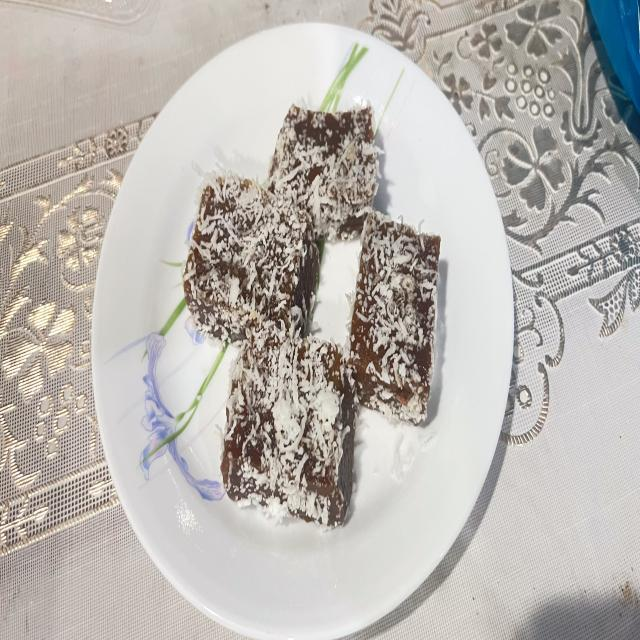kaswi: (221, 322, 355, 527), (182, 173, 319, 342), (349, 211, 440, 424), (268, 104, 379, 240)
